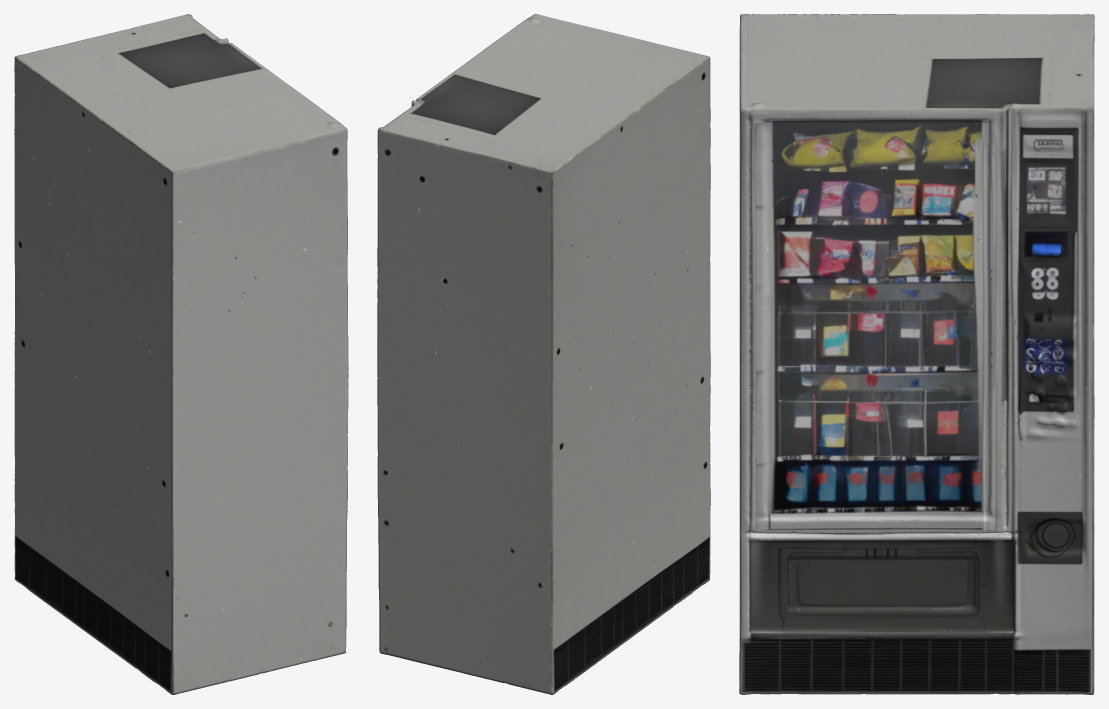
The model's file is Meshy_AI_macchinetta_snack_0212075151_texture.glb.
3 renders of one model, left to right at view 1: azimuth 30°, elevation 25°; view 2: azimuth 150°, elevation 25°; view 3: azimuth 270°, elevation 25°, orthographic. The views are drawn at different scales.
Size of the model in its own units: 0.712 by 2 by 1.09.
1 material, 1 textured.
